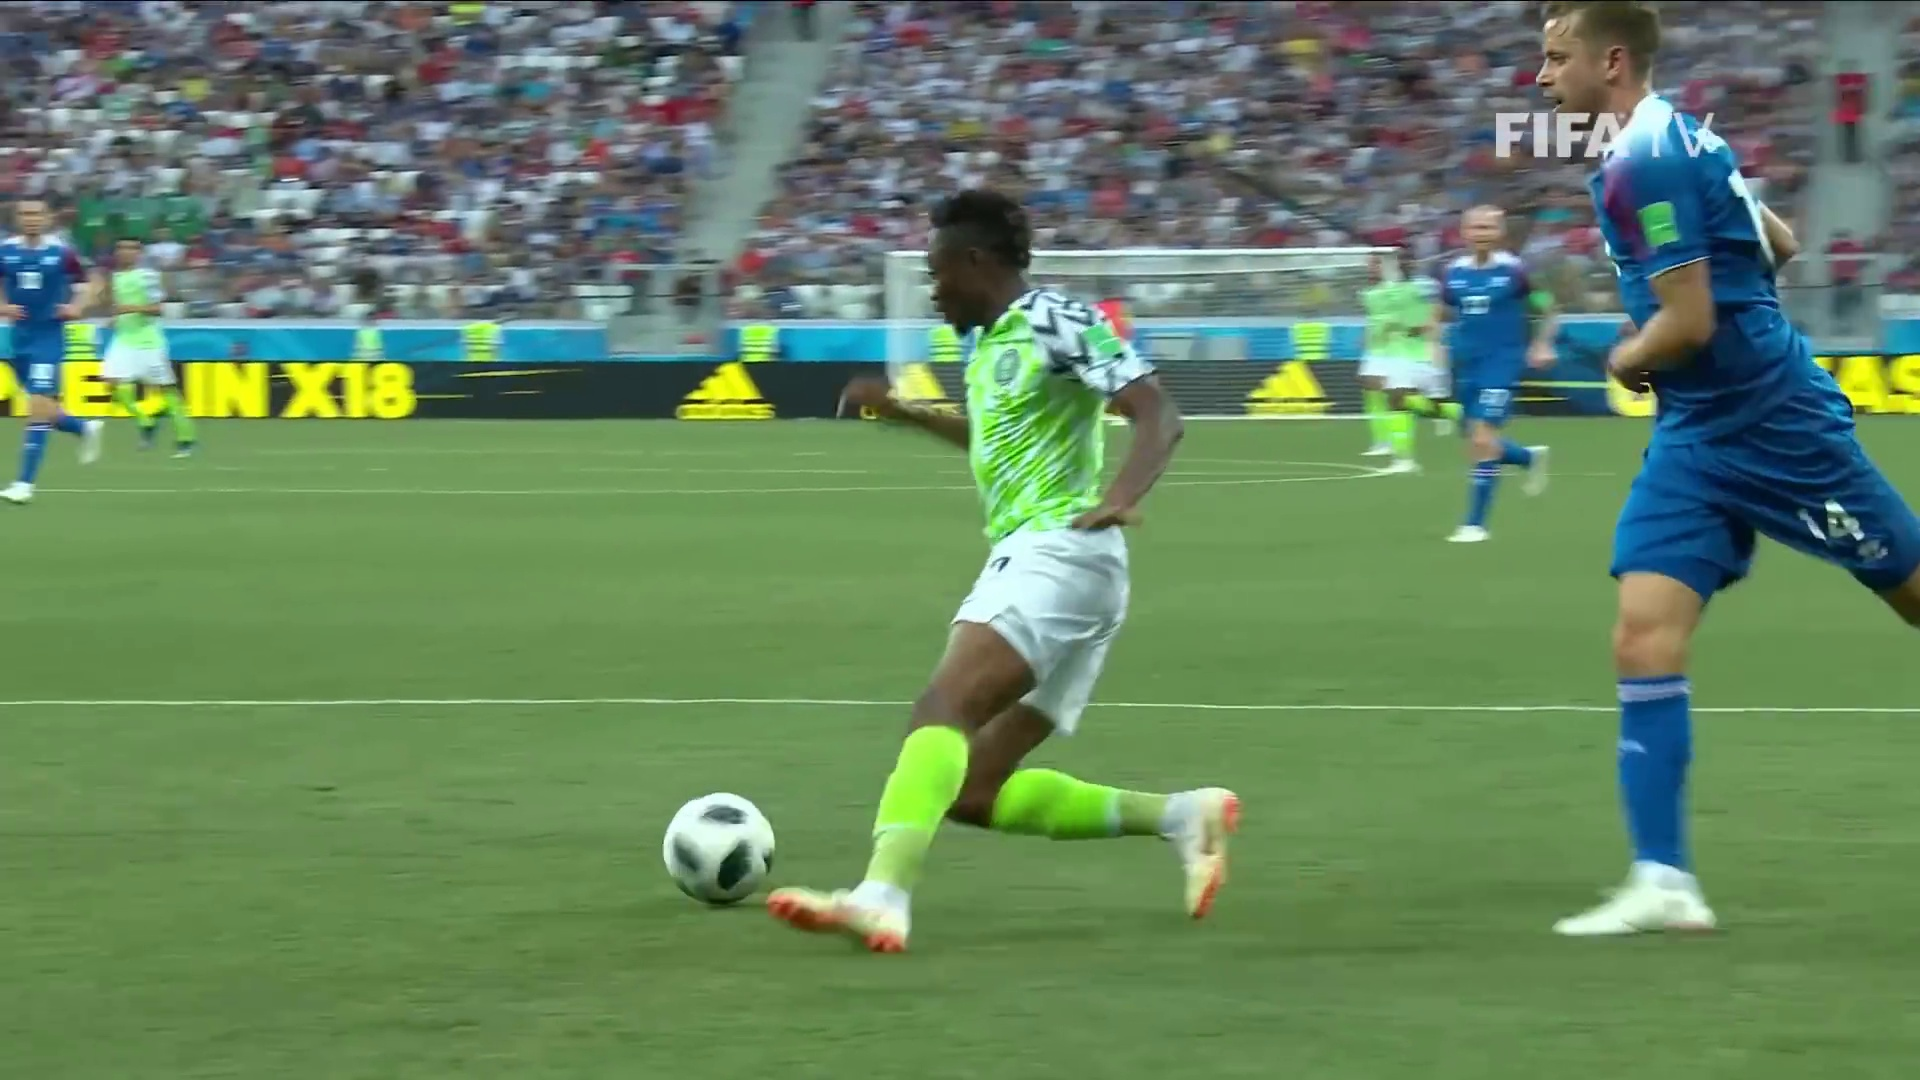ball: (661, 796, 769, 900)
person: (1524, 2, 1920, 928), (767, 184, 1242, 953), (1448, 210, 1554, 539), (3, 198, 99, 500), (99, 231, 195, 453)
